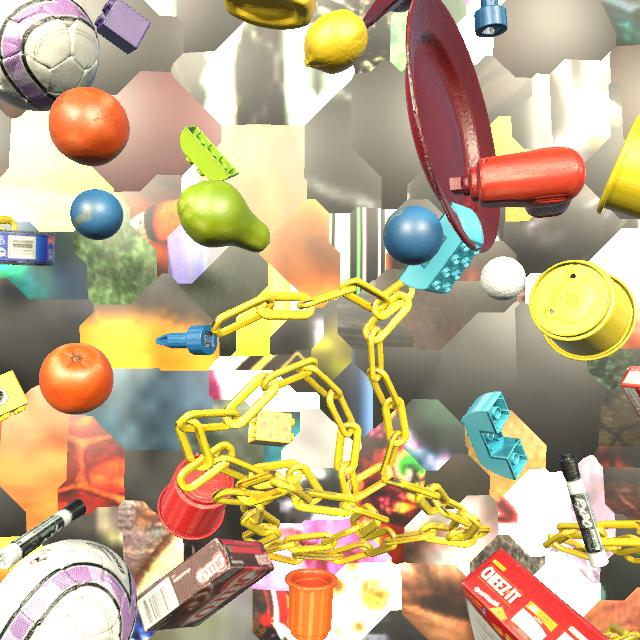ycb_003_cracker_box: (461, 548, 609, 640)
ycb_006_mustard_bottle: (224, 0, 317, 30)
ycb_007_tuna_fish_can: (0, 229, 56, 266)
ycb_008_pudding_box: (137, 538, 275, 632)
ycb_009_gelatin_box: (620, 366, 640, 417)
ycb_014_lemon: (304, 9, 368, 74)
ycb_016_pear: (177, 180, 270, 252)
ycb_017_orange: (48, 87, 130, 166), (39, 343, 114, 414)
